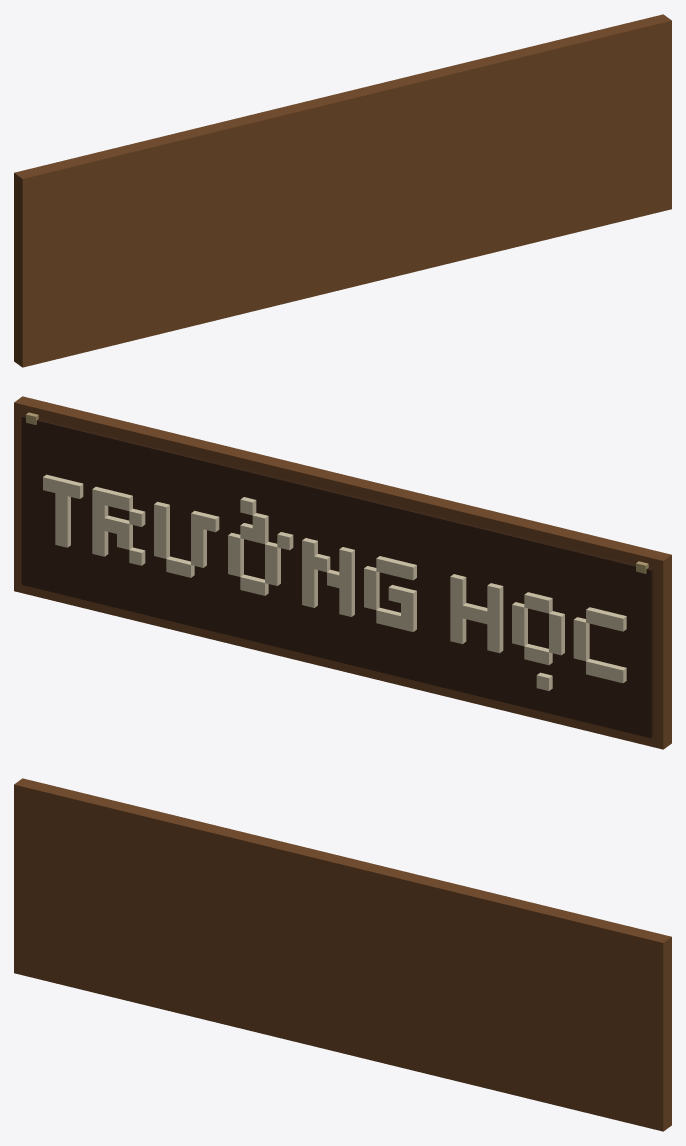
The model's file is tt-sign-truong-hoc.glb.
The picture shows the model from 3 angles, top to bottom: view 1: azimuth 30°, elevation 25°; view 2: azimuth 150°, elevation 25°; view 3: azimuth 330°, elevation 25°; orthographic projection.
Visible parts, largest first — view 1: box-prop; view 2: box-prop; view 3: box-prop.
Part boxes in pixels (left/top/right/bottom): box-prop: left=14, top=14, right=671, bottom=367; box-prop: left=14, top=396, right=671, bottom=749; box-prop: left=14, top=778, right=671, bottom=1131.
Bounding box in the file's own units: 5.26 × 1.46 × 0.2.
